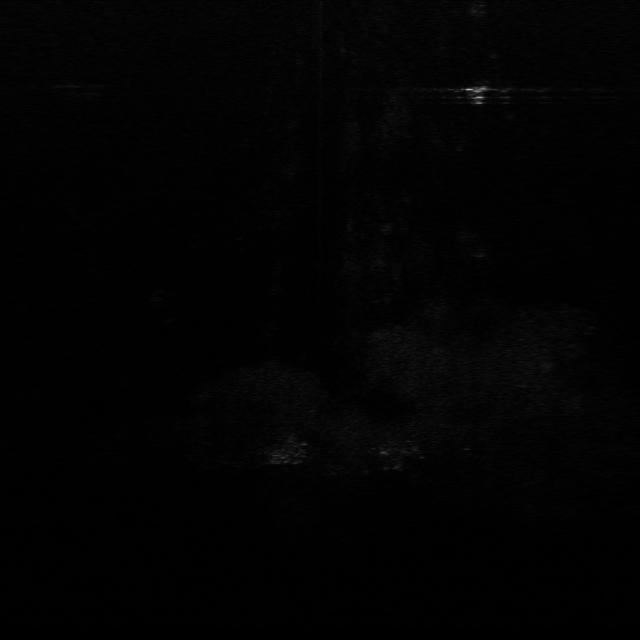rov: (459, 84, 497, 112)
